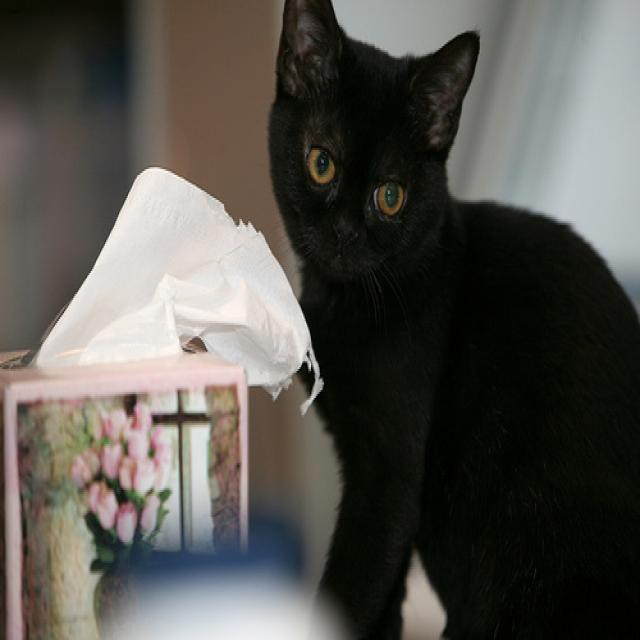Bombay: (268, 0, 489, 317)
